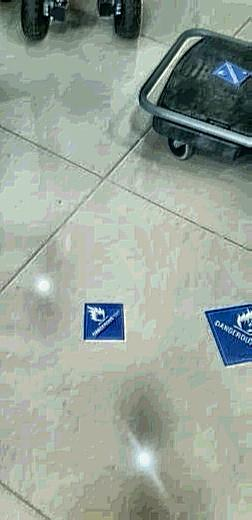dangerous-when-wet: (203, 303, 252, 366), (83, 303, 126, 340)
